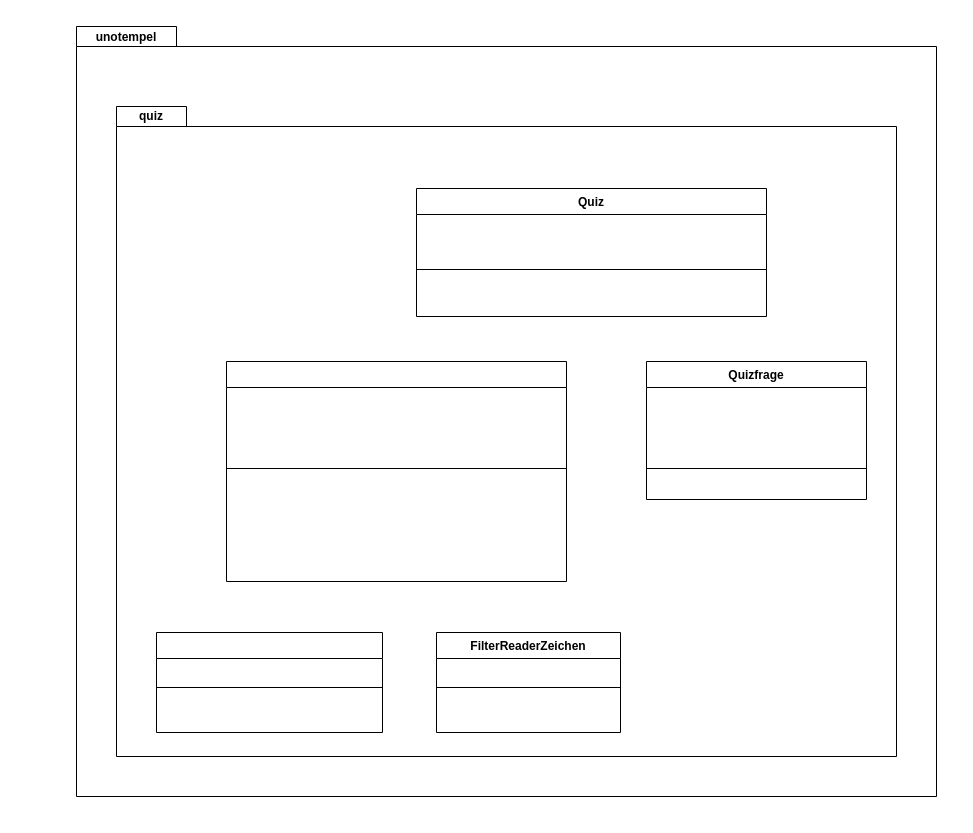
This 973x833 diagram has some shape labels left out. Each missing label, with the centre of its shape:
"FilterReaderDatensatz" belongs at point 269,682.
"Quizfragenpool" belongs at point 396,471.
